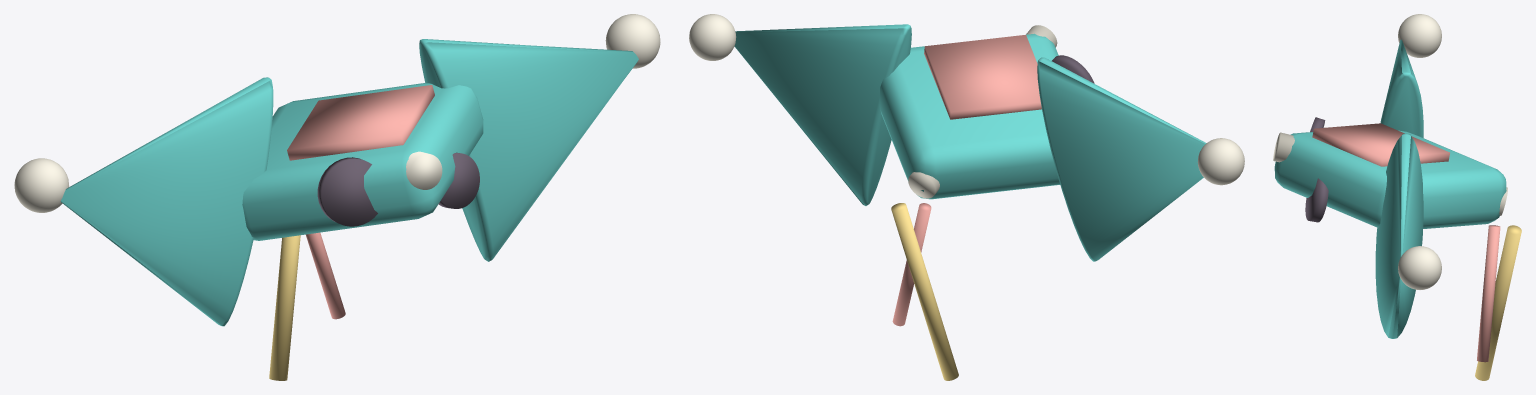
File: flyer_enemy.glb
3 renders of one model, left to right at view 1: azimuth 30°, elevation 25°; view 2: azimuth 150°, elevation 25°; view 3: azimuth 270°, elevation 25°, orthographic. The views are drawn at different scales.
Parts seen in each view (by area): view 1: Body, WingL, WingR; view 2: Body, WingL, WingR; view 3: Body, WingR, WingL.
Boxes of the visible parts, x1=… form: Body: x1=242, y1=83, x2=483, y2=380; WingL: x1=14, y1=77, x2=273, y2=326; WingR: x1=419, y1=14, x2=660, y2=261; Body: x1=879, y1=25, x2=1094, y2=380; WingL: x1=1037, y1=57, x2=1244, y2=261; WingR: x1=689, y1=14, x2=911, y2=205; Body: x1=1273, y1=117, x2=1521, y2=380; WingR: x1=1375, y1=133, x2=1441, y2=338; WingL: x1=1380, y1=14, x2=1441, y2=137.
Bounding box in the file's own units: 1.21 × 0.6368 × 0.5074.
